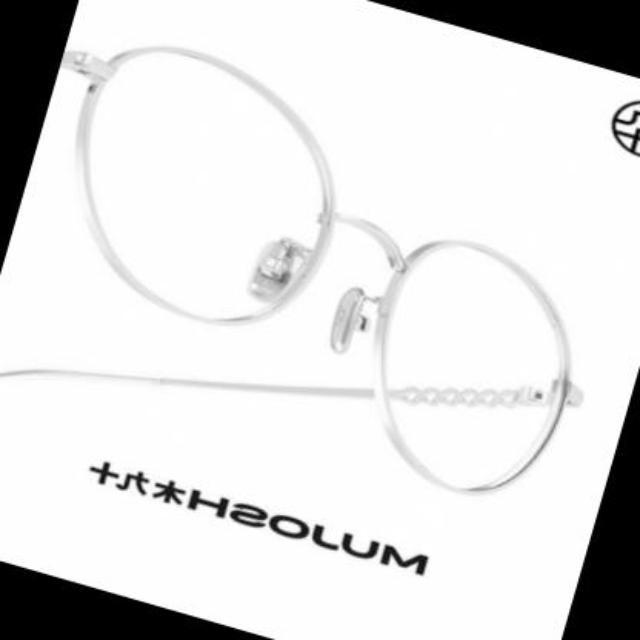glasses: (14, 43, 584, 500)
